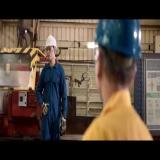Helmet: (94, 19, 142, 62), (46, 35, 57, 49)
